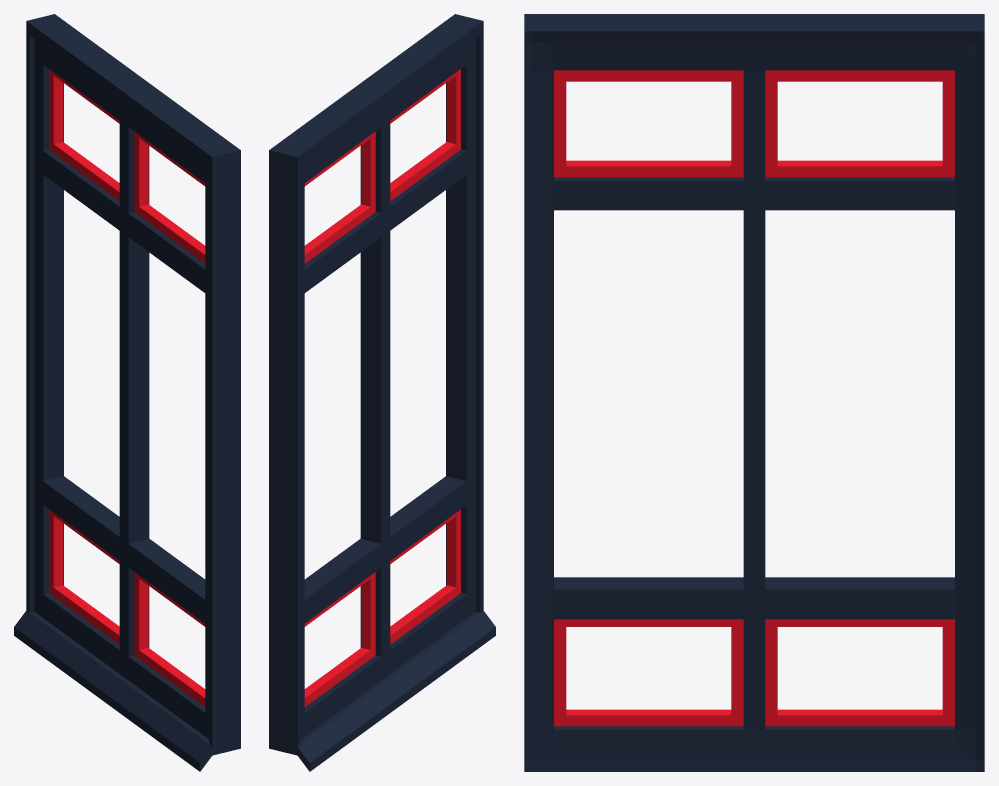
The model's file is 284_East_Wing_Window.obj.
3 renders of one model, left to right at view 1: azimuth 30°, elevation 25°; view 2: azimuth 150°, elevation 25°; view 3: azimuth 270°, elevation 25°, orthographic. The views are drawn at different scales.
Parts seen in each view (by area): view 1: 284_East_Wing_Window; view 2: 284_East_Wing_Window; view 3: 284_East_Wing_Window.
Part boxes in pixels (x1=…): 284_East_Wing_Window: x1=14, y1=14, x2=240, y2=771; 284_East_Wing_Window: x1=269, y1=14, x2=495, y2=771; 284_East_Wing_Window: x1=524, y1=14, x2=984, y2=771.
Bounding box in the file's own units: 0.1433 × 2.06 × 1.13.
